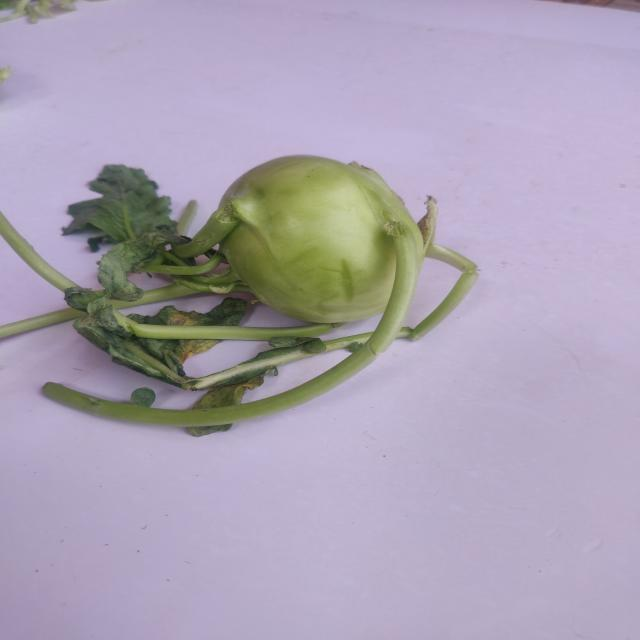Turnip: (6, 136, 503, 442)
